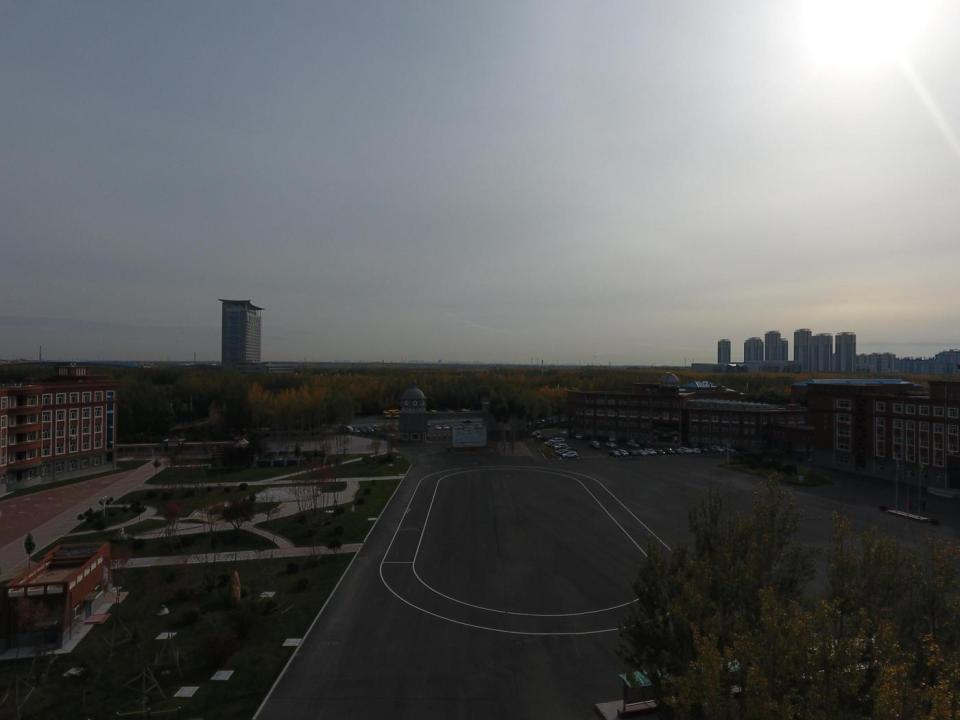bus: (381, 411, 392, 419), (390, 412, 399, 418), (461, 409, 470, 412), (447, 410, 455, 412), (430, 410, 438, 412)
car: (562, 451, 578, 458), (644, 448, 657, 456), (679, 446, 692, 454), (550, 437, 564, 444), (712, 446, 725, 453), (558, 450, 573, 456), (543, 440, 558, 446), (722, 446, 737, 452), (618, 449, 629, 457), (654, 448, 665, 456), (664, 447, 675, 455), (690, 447, 701, 455), (701, 447, 712, 455), (608, 450, 620, 457), (636, 449, 647, 456), (554, 448, 566, 454), (626, 450, 638, 456), (589, 444, 600, 450), (606, 442, 617, 448), (565, 447, 578, 452), (554, 443, 567, 448), (547, 442, 560, 447), (627, 442, 640, 447), (365, 427, 374, 434), (709, 447, 718, 454), (673, 449, 683, 455), (366, 423, 377, 428), (390, 426, 399, 432), (434, 424, 442, 430), (352, 428, 360, 434), (462, 419, 474, 423), (359, 428, 366, 434), (373, 428, 380, 434), (382, 427, 390, 432), (609, 436, 617, 441), (557, 446, 569, 449), (551, 443, 560, 447), (442, 425, 449, 430), (536, 434, 544, 438), (628, 438, 636, 442), (475, 423, 482, 427)
truck: (339, 424, 354, 435)
van: (576, 433, 584, 439)
